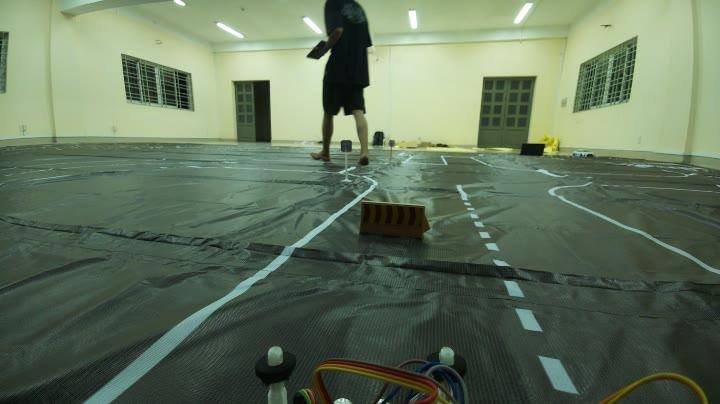roadblock: (354, 190, 437, 250)
